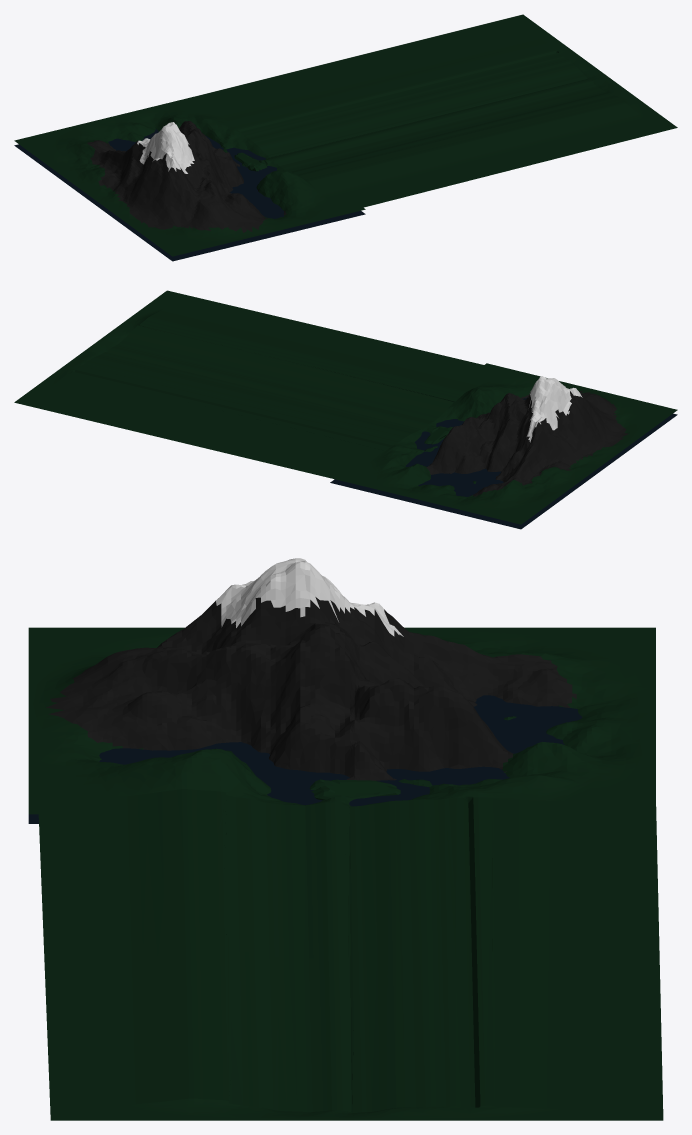
File: mountain_area.obj
The picture shows the model from 3 angles, top to bottom: view 1: azimuth 30°, elevation 25°; view 2: azimuth 150°, elevation 25°; view 3: azimuth 270°, elevation 25°; orthographic projection. The views are drawn at different scales.
Visible parts, largest first — view 1: Landscape, Landscape_plane; view 2: Landscape, Landscape_plane; view 3: Landscape, Landscape_plane.
Part boxes in pixels (bbox=[...]): Landscape: bbox=[14, 14, 677, 256]; Landscape_plane: bbox=[14, 129, 365, 261]; Landscape: bbox=[14, 290, 677, 524]; Landscape_plane: bbox=[330, 398, 677, 529]; Landscape: bbox=[28, 558, 663, 1120]; Landscape_plane: bbox=[28, 695, 582, 823].
Bounding box in the file's own units: 258 × 40.48 × 140.
